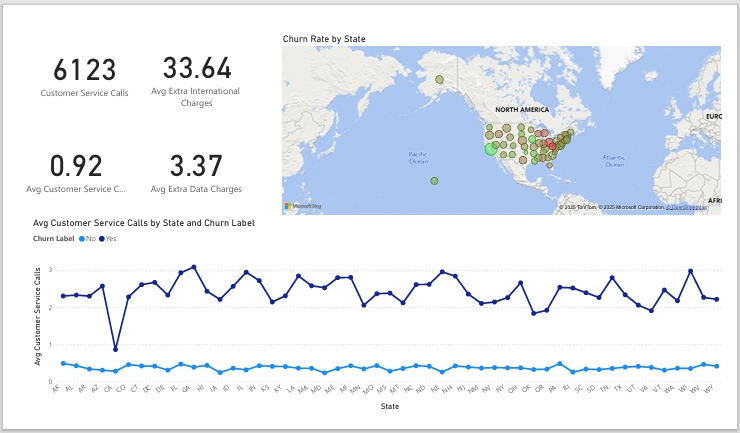

Layout of this report page (visuals, bound fields, positions):
{"tool":"powerbi","page":{"name":"Insights","canvas":[1280,720],"ordinal":4},"visuals":[{"type":"card","fields":{"Values":["Sum(Databel - Data.Customer Service Calls)"]},"box":[27.6,6.1,194.4,182.2],"z":0},{"type":"card","fields":{"Values":["Databel - Data.Avg Customer Service Calls"]},"box":[12.2,186.8,194.4,168.4],"z":1000},{"type":"card","fields":{"Values":["Databel - Data.Avg Extra International Charges"]},"box":[222,0,211.3,186.8],"z":2000},{"type":"card","fields":{"Values":["Databel - Data.Avg Extra Data Charges"]},"box":[209.8,165.4,234.3,209.8],"z":3000},{"type":"lineChart","fields":{"Category":["Databel - Data.State"],"Y":["Databel - Data.Avg Customer Service Calls"],"Series":["Databel - Data.Churn Label"]},"box":[27.2,359.9,1252.8,355],"z":4000},{"type":"map","fields":{"Category":["Databel - Data.State"],"Size":["Databel - Data.Churn Rate"]},"box":[477.7,27.6,802.3,332.2],"z":5000}]}

Visuals, with their boxes on the page's 1280x720 design canvas (x1, y1, x2, y2). These are canvas units, not pixel positions in the 740x433 screenshot, which may show the page scaled, cropped or inside an application window:
card - Sum(Databel - Data.Customer Service Calls): select_region(28, 6, 222, 188)
card - Databel - Data.Avg Customer Service Calls: select_region(12, 187, 207, 355)
card - Databel - Data.Avg Extra International Charges: select_region(222, 0, 433, 187)
card - Databel - Data.Avg Extra Data Charges: select_region(210, 165, 444, 375)
lineChart - Databel - Data.State x Databel - Data.Avg Customer Service Calls: select_region(27, 360, 1280, 715)
map - Databel - Data.State x Databel - Data.Churn Rate: select_region(478, 28, 1280, 360)
